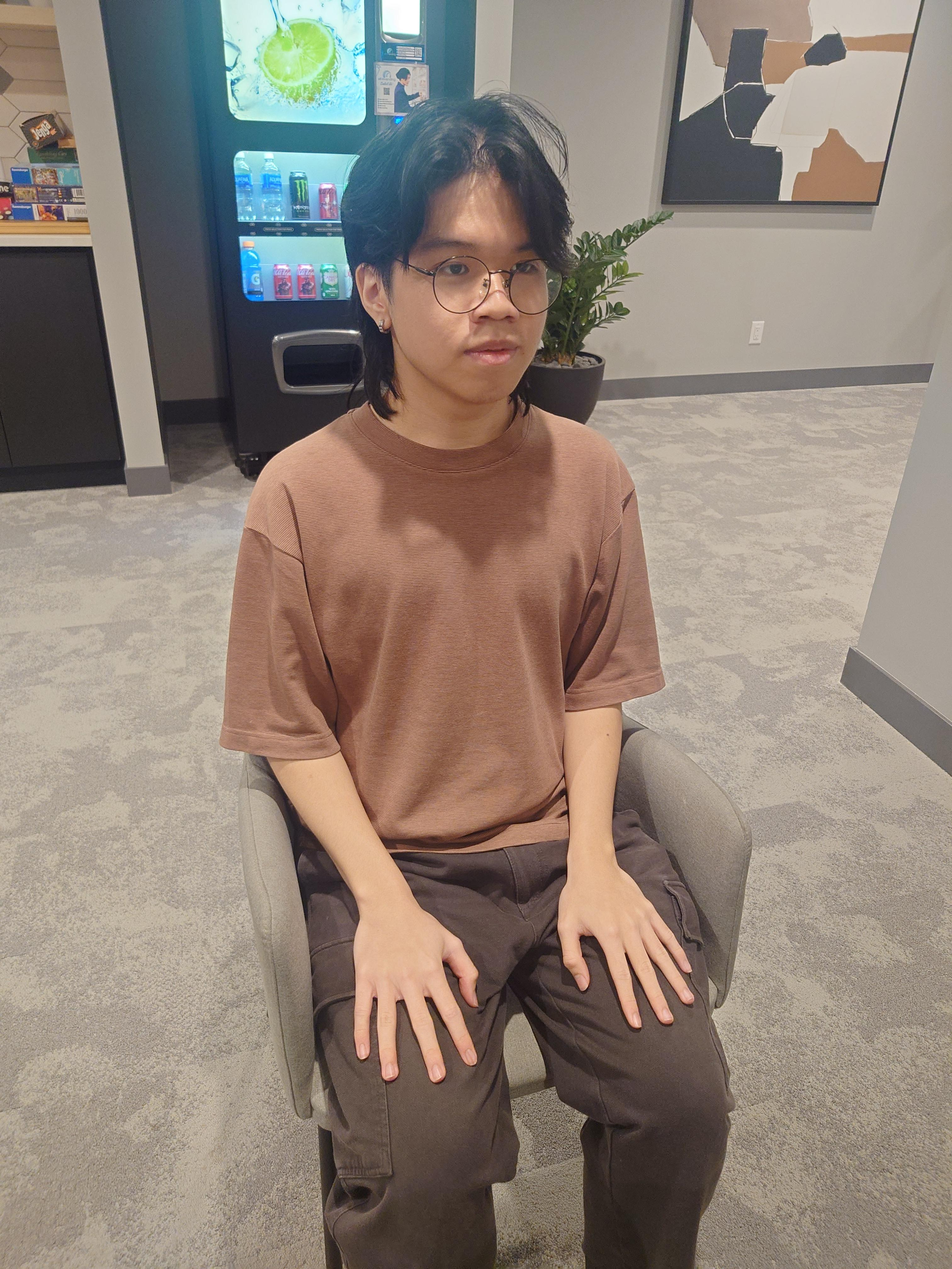GoodPosture: (218, 96, 734, 1269)
